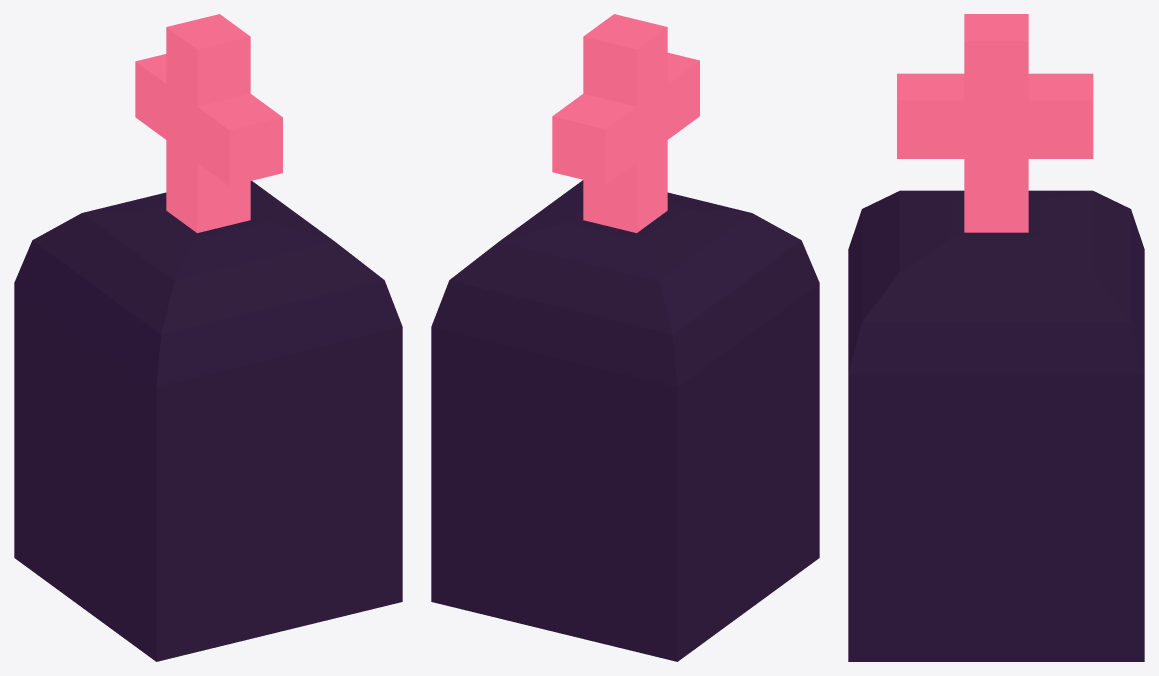
Rendered from grave_type_03.glb.
The picture shows the model from 3 angles, left to right: view 1: azimuth 30°, elevation 25°; view 2: azimuth 150°, elevation 25°; view 3: azimuth 270°, elevation 25°; orthographic projection. The views are drawn at different scales.
Parts seen in each view (by area): view 1: Cylinder, Cube; view 2: Cylinder, Cube; view 3: Cylinder, Cube.
Boxes of the visible parts, box(x1,y1,x2,y2) form: Cylinder: box(14, 181, 402, 661); Cube: box(135, 14, 282, 232); Cylinder: box(431, 180, 819, 661); Cube: box(552, 14, 699, 232); Cylinder: box(848, 190, 1144, 661); Cube: box(897, 14, 1093, 232).
Bounding box in the file's own units: 2.25 × 4.78 × 2.25.
